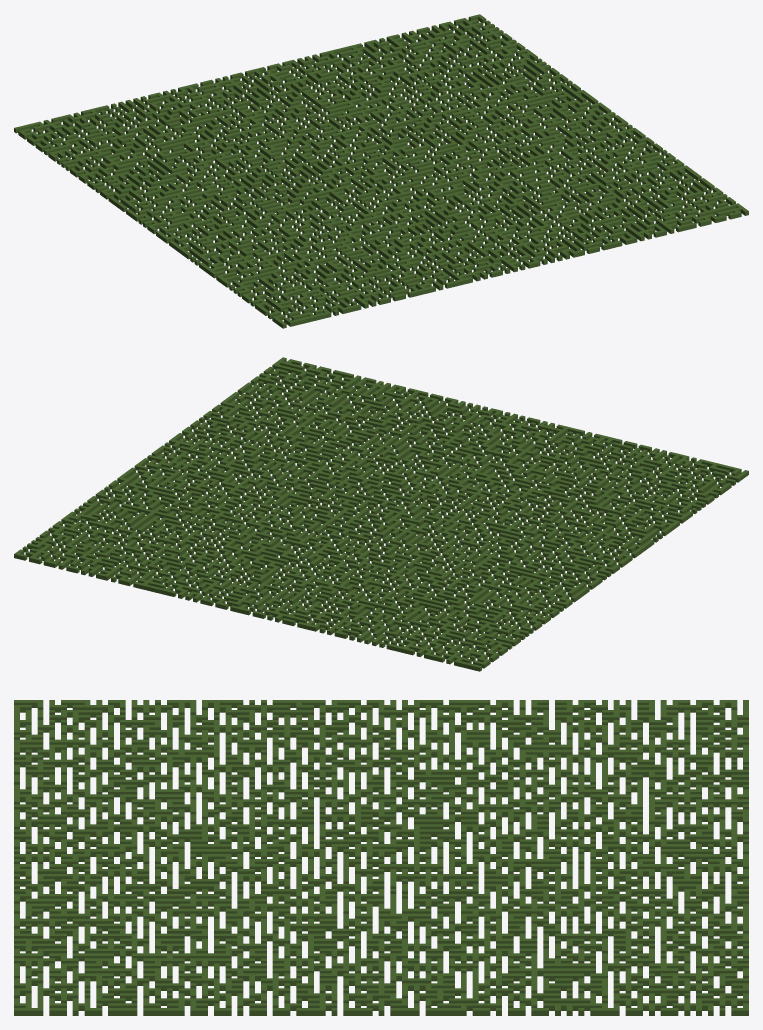
The model's file is Labyrinth.obj.
3 views of the same model, one above another, from view 1: azimuth 30°, elevation 25°; view 2: azimuth 150°, elevation 25°; view 3: azimuth 270°, elevation 25° (orthographic). The views are drawn at different scales.
Size of the model in its own units: 12.5 by 0.1 by 12.5.
1 material, 1 textured.
